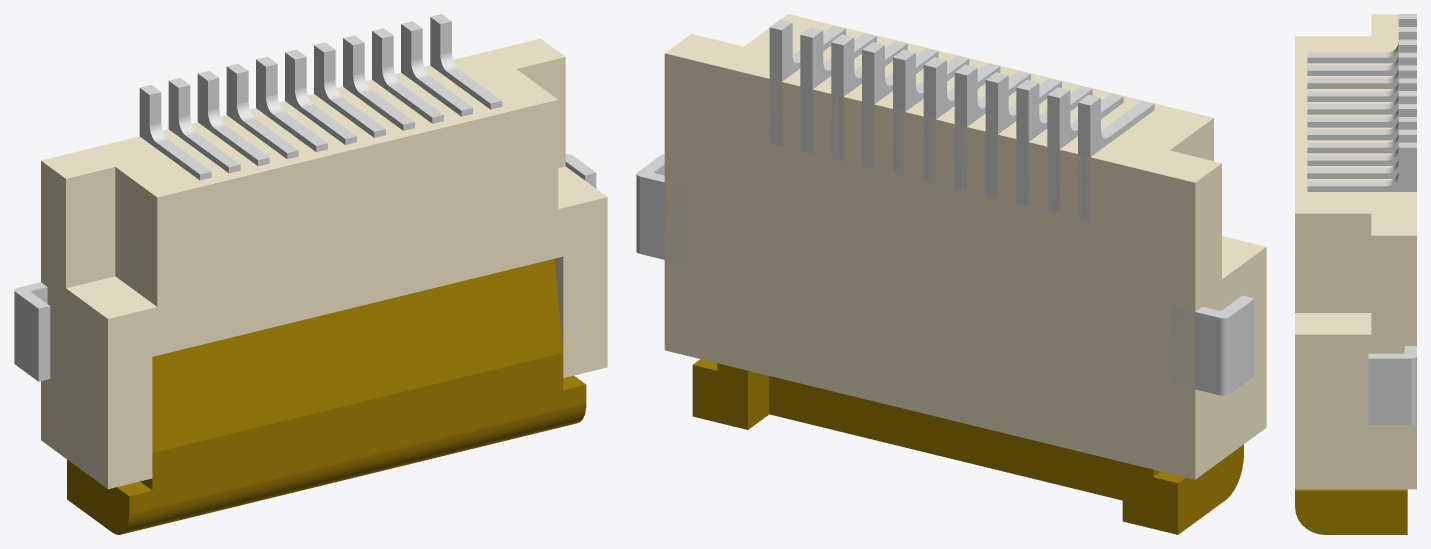
The model's file is Hirose_FH12-11S-0.5SH_1x11-1MP_P0.50mm_Horizontal.glb.
3 views of the same model, side by side, from view 1: azimuth 30°, elevation 25°; view 2: azimuth 150°, elevation 25°; view 3: azimuth 270°, elevation 25° (orthographic). The views are drawn at different scales.
Parts seen in each view (by area): view 1: Shape_IndexedFaceSet.005, Shape_IndexedFaceSet.023, Shape_IndexedFaceSet.016, Shape_IndexedFaceSet, Shape_IndexedFaceSet.008, Shape_IndexedFaceSet.018, Shape_IndexedFaceSet.007, Shape_IndexedFaceSet.006, Shape_IndexedFaceSet.020, Shape_IndexedFaceSet.014, Shape_IndexedFaceSet.182, Shape_IndexedFaceSet.003 (+13 smaller); view 2: Shape_IndexedFaceSet.001, Shape_IndexedFaceSet.030, Shape_IndexedFaceSet, Shape_IndexedFaceSet.008, Shape_IndexedFaceSet.189, Shape_IndexedFaceSet.027, Shape_IndexedFaceSet.026, Shape_IndexedFaceSet.020, Shape_IndexedFaceSet.180, Shape_IndexedFaceSet.182, Shape_IndexedFaceSet.109, Shape_IndexedFaceSet.103 (+24 smaller); view 3: Shape_IndexedFaceSet.002, Shape_IndexedFaceSet, Shape_IndexedFaceSet.004, Shape_IndexedFaceSet.017, Shape_IndexedFaceSet.173, Shape_IndexedFaceSet.010, Shape_IndexedFaceSet.078, Shape_IndexedFaceSet.038, Shape_IndexedFaceSet.066, Shape_IndexedFaceSet.050, Shape_IndexedFaceSet.054, Shape_IndexedFaceSet.062 (+19 smaller).
Boxes of the visible parts, x1,y1,x2,y2 form: Shape_IndexedFaceSet.005: [108, 100, 607, 489]; Shape_IndexedFaceSet.023: [152, 258, 563, 452]; Shape_IndexedFaceSet.016: [129, 353, 586, 514]; Shape_IndexedFaceSet: [41, 38, 565, 197]; Shape_IndexedFaceSet.008: [41, 161, 107, 488]; Shape_IndexedFaceSet.018: [121, 403, 586, 534]; Shape_IndexedFaceSet.007: [66, 167, 115, 288]; Shape_IndexedFaceSet.006: [115, 167, 157, 306]; Shape_IndexedFaceSet.020: [67, 459, 129, 534]; Shape_IndexedFaceSet.014: [66, 276, 156, 318]; Shape_IndexedFaceSet.182: [15, 292, 38, 381]; Shape_IndexedFaceSet.003: [517, 57, 565, 167]; Shape_IndexedFaceSet.001: [664, 53, 1195, 479]; Shape_IndexedFaceSet.030: [769, 376, 1122, 500]; Shape_IndexedFaceSet: [665, 14, 1221, 182]; Shape_IndexedFaceSet.008: [1195, 163, 1266, 479]; Shape_IndexedFaceSet.189: [1170, 306, 1219, 395]; Shape_IndexedFaceSet.027: [1122, 462, 1177, 534]; Shape_IndexedFaceSet.026: [692, 363, 747, 429]; Shape_IndexedFaceSet.020: [1178, 444, 1243, 534]; Shape_IndexedFaceSet.180: [640, 176, 689, 265]; Shape_IndexedFaceSet.182: [1229, 299, 1254, 393]; Shape_IndexedFaceSet.109: [1016, 87, 1028, 206]; Shape_IndexedFaceSet.103: [1047, 95, 1059, 214]; Shape_IndexedFaceSet.002: [1295, 235, 1416, 489]; Shape_IndexedFaceSet: [1295, 14, 1416, 235]; Shape_IndexedFaceSet.004: [1295, 213, 1371, 312]; Shape_IndexedFaceSet.017: [1295, 491, 1407, 534]; Shape_IndexedFaceSet.173: [1368, 358, 1410, 424]; Shape_IndexedFaceSet.010: [1295, 313, 1371, 334]; Shape_IndexedFaceSet.078: [1307, 147, 1416, 191]; Shape_IndexedFaceSet.038: [1307, 19, 1416, 63]; Shape_IndexedFaceSet.066: [1307, 109, 1416, 153]; Shape_IndexedFaceSet.050: [1307, 57, 1416, 101]; Shape_IndexedFaceSet.054: [1307, 70, 1416, 114]; Shape_IndexedFaceSet.062: [1307, 96, 1416, 140].
Bounding box in the file's own units: 3.78 × 2.52 × 0.7874.
